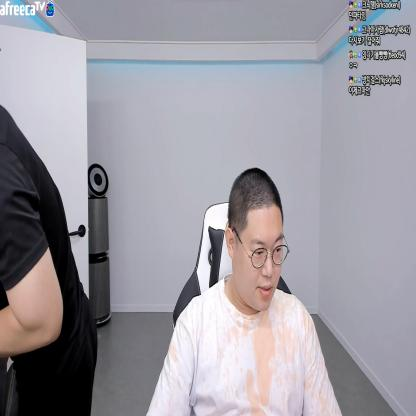streamer: (145, 167, 342, 416), (1, 103, 98, 416)
